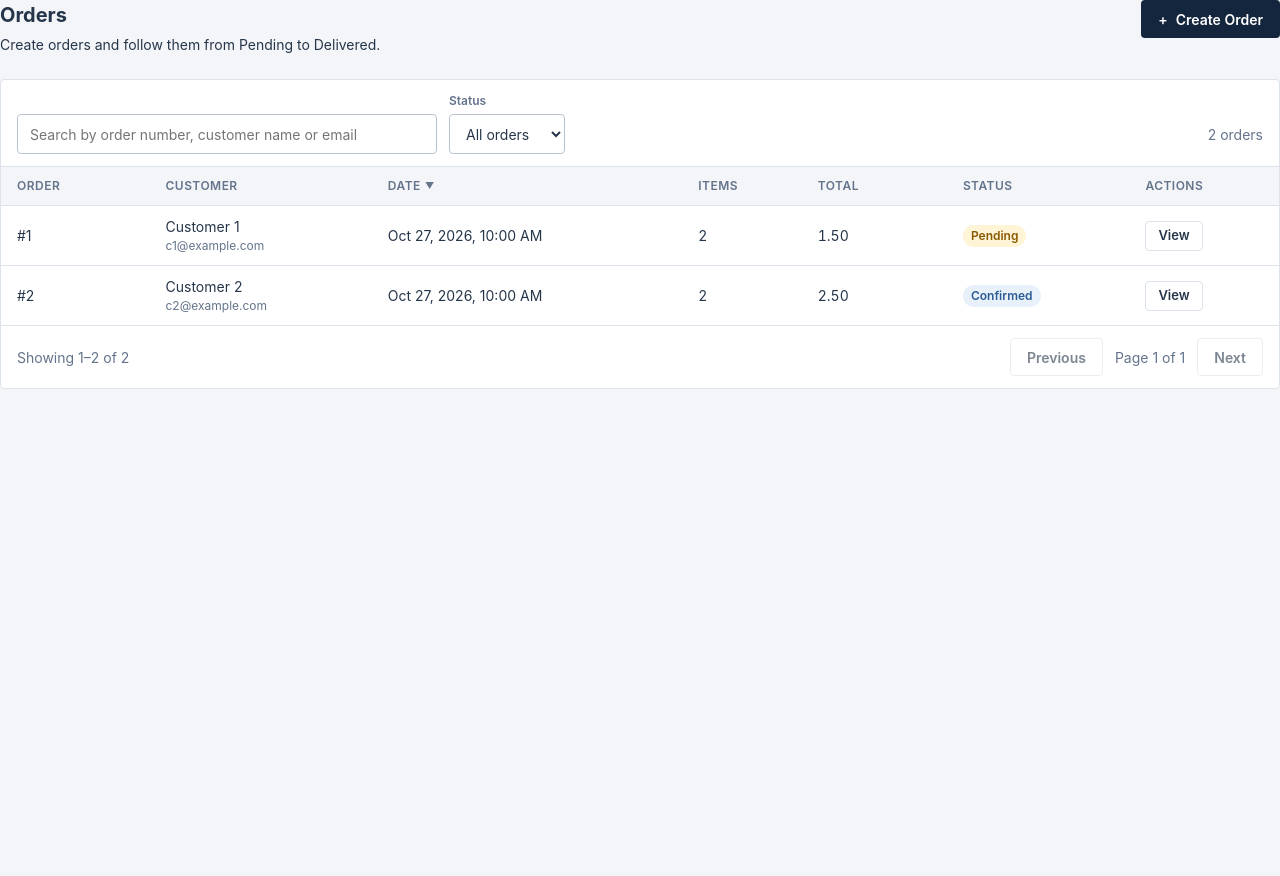
Test case: creating an order › a created order closes the form, shows a success message and reloads the list
expect the text "Customer 1" is shown: met, box top-left (166, 218), bottom-right (240, 235)
Click the button "+ Create Order": (1211, 19) top-left (1141, 0), bottom-right (1279, 38)
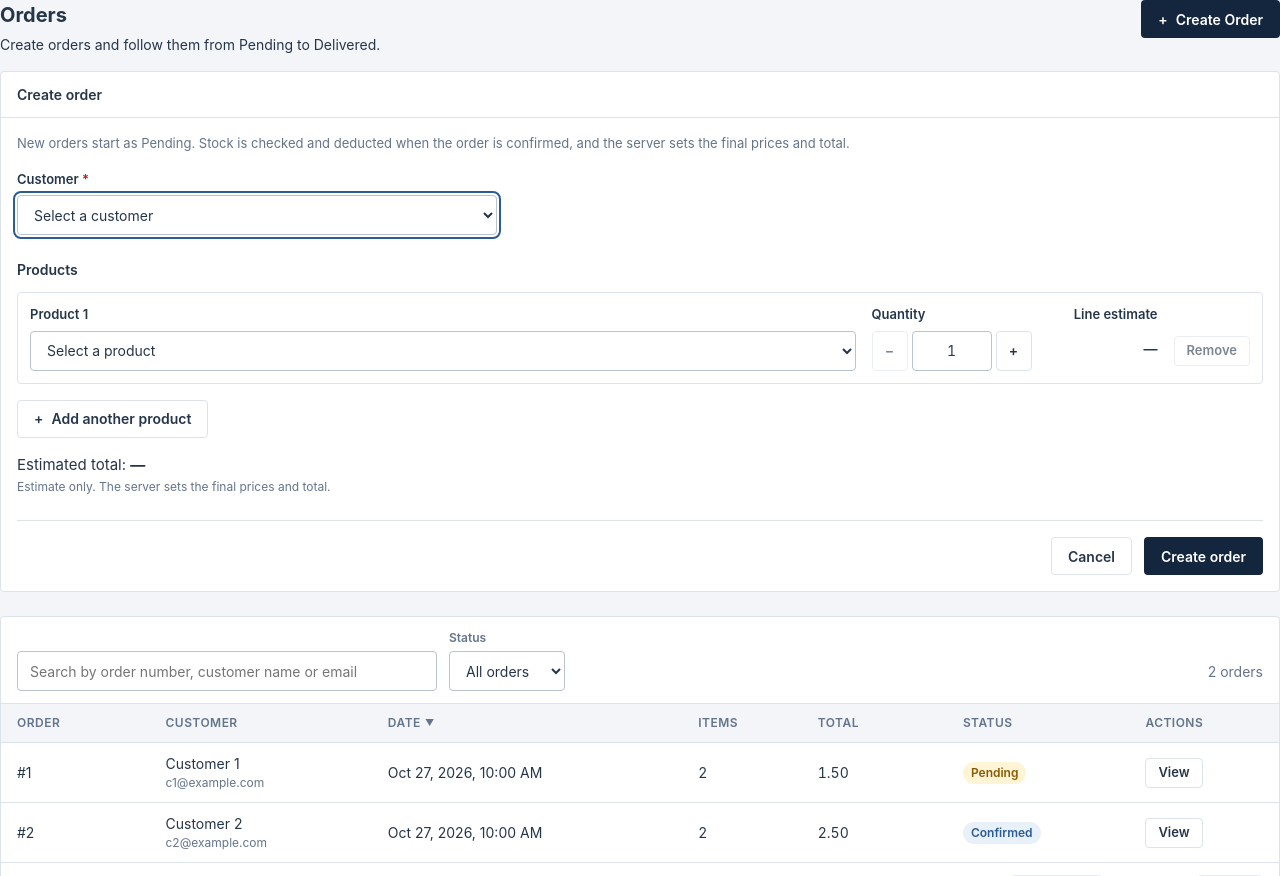
expect the dropdown labelled "Customer *" is shown: met
Select "Ann Lee (ann@example.com)" in the dropdown labelled "Customer *": (257, 215) top-left (17, 195), bottom-right (497, 235)
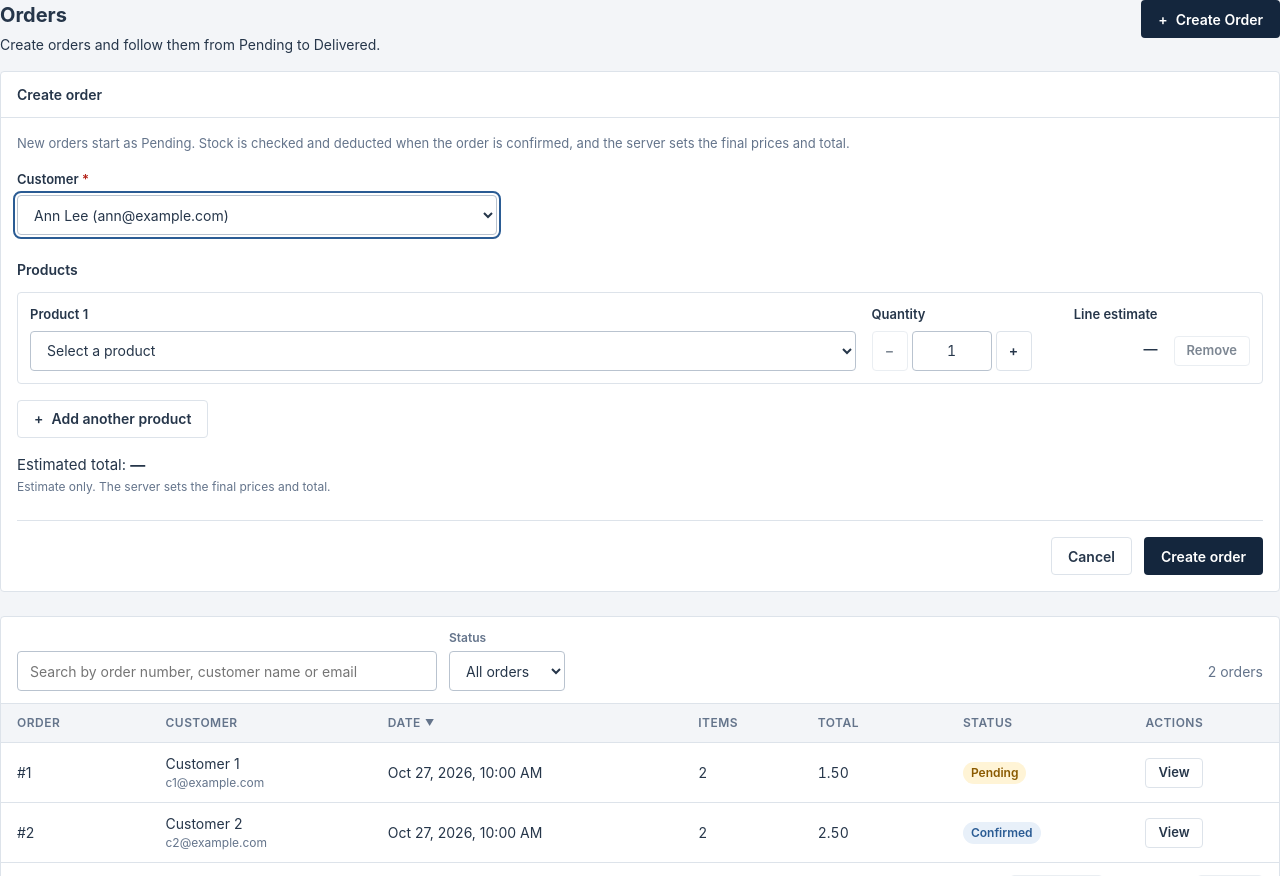
Select "AAA-1 — Widget (10.00)" in the dropdown labelled "Product 1": (443, 350) top-left (30, 330), bottom-right (856, 370)
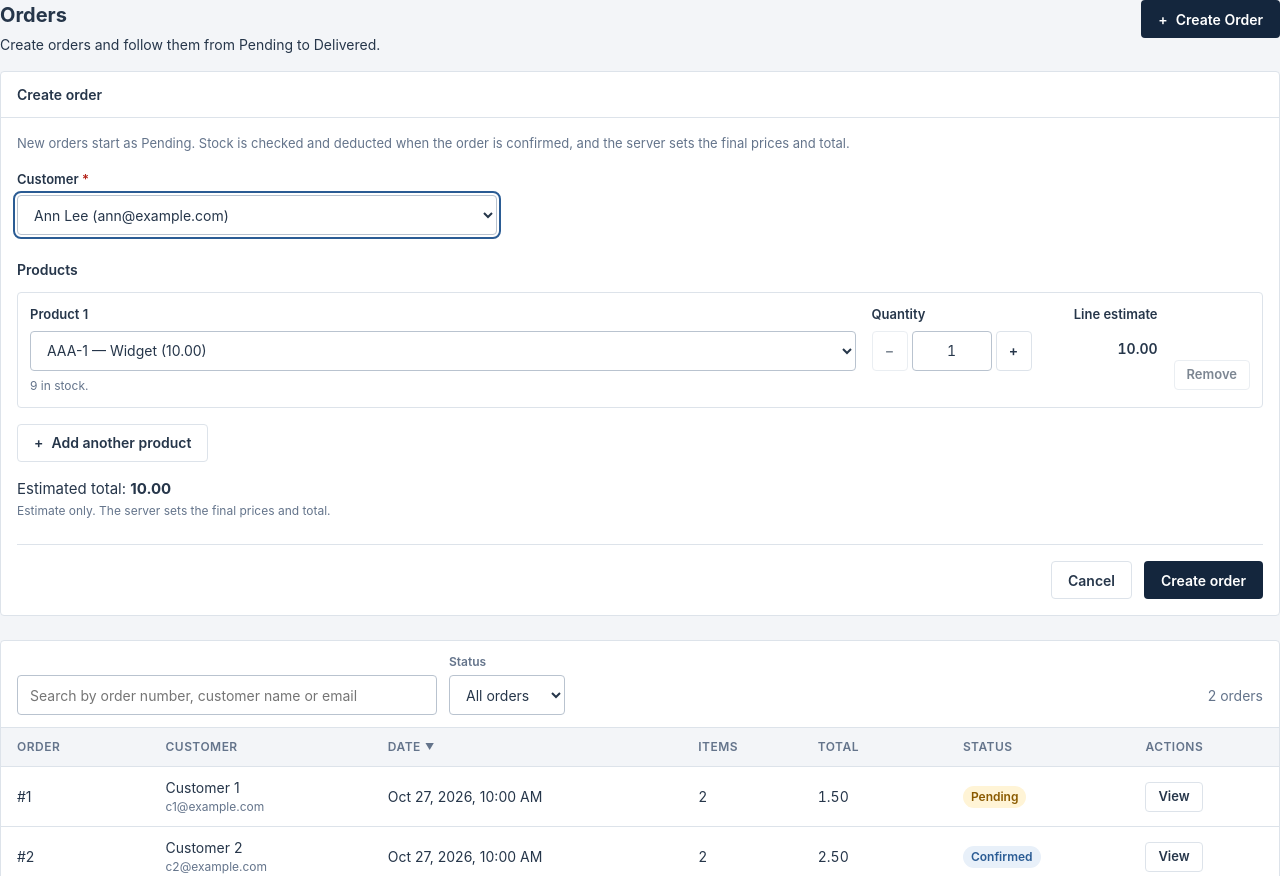
Click the button "Create order": (1204, 580) top-left (1144, 561), bottom-right (1263, 599)
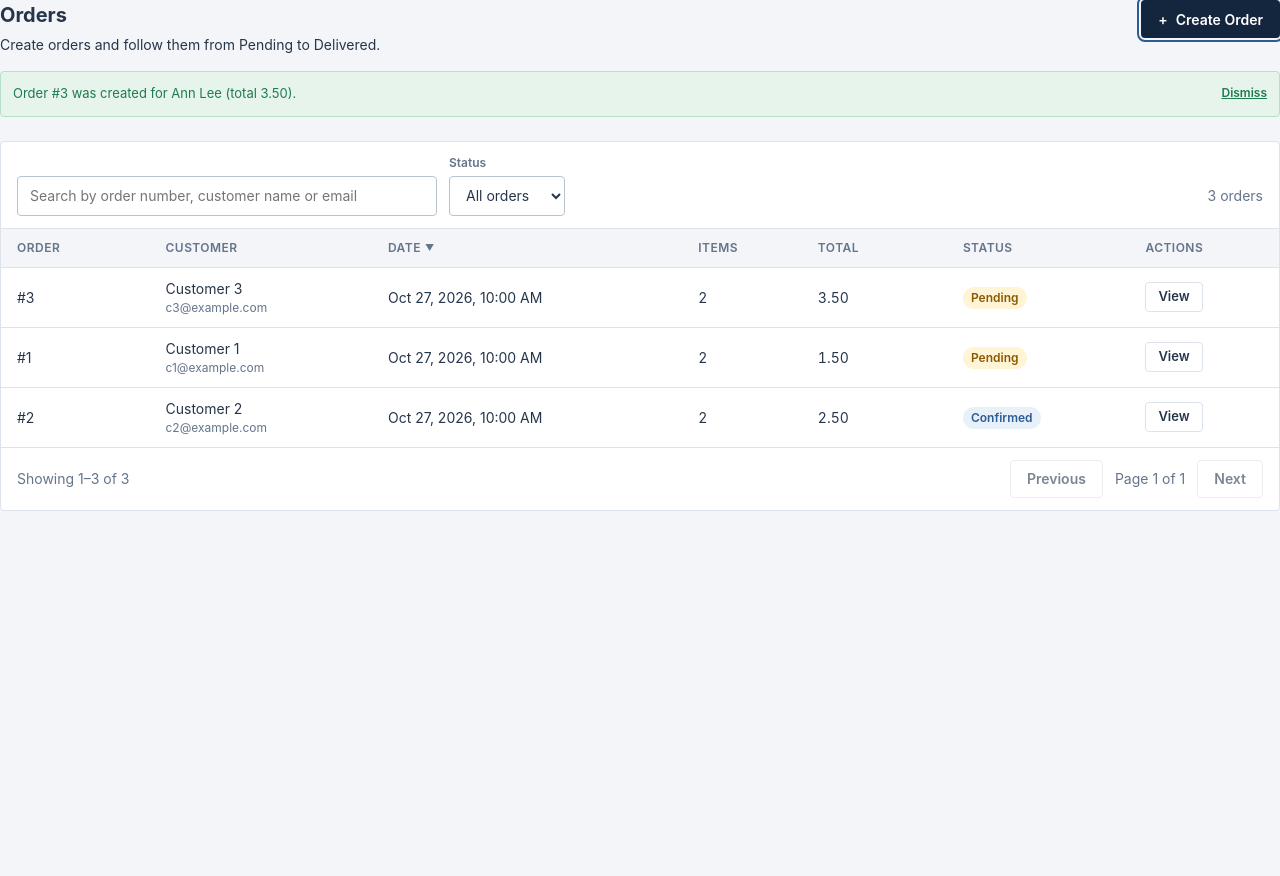
expect the text "Order #3 was created for Ann Lee (total 3.50)." is shown: met, box top-left (13, 85), bottom-right (296, 101)
expect the text "Customer 3" is shown: met, box top-left (166, 280), bottom-right (242, 296)
